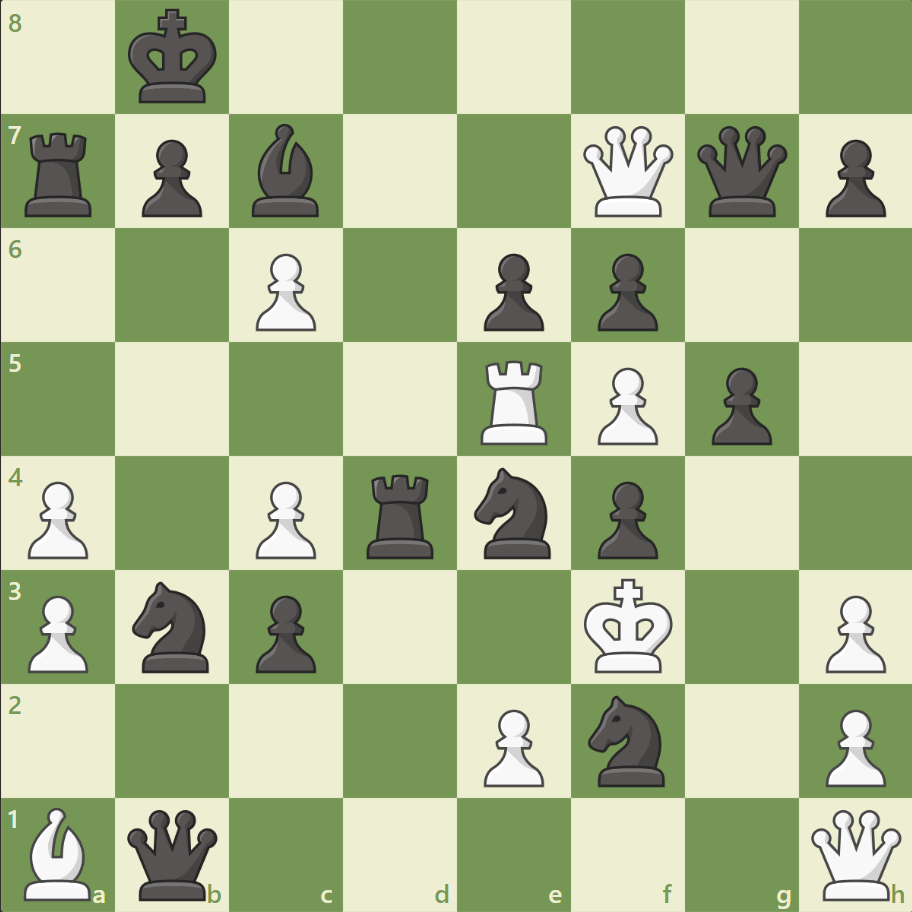B: (17, 801, 101, 904)
K: (579, 571, 679, 679)
P: (247, 246, 322, 337), (20, 473, 95, 564), (247, 473, 322, 564), (20, 586, 95, 677), (474, 700, 549, 791), (588, 359, 662, 450), (815, 586, 889, 677), (815, 700, 889, 791)
Q: (578, 122, 677, 222), (805, 804, 904, 903)
R: (473, 352, 556, 449)
b: (244, 120, 328, 222)
k: (124, 4, 224, 112)
n: (124, 575, 222, 677), (465, 461, 562, 564), (579, 688, 676, 791)
p: (133, 132, 208, 223), (474, 246, 549, 337), (701, 359, 776, 450), (247, 586, 322, 677), (815, 132, 889, 223), (588, 246, 662, 337), (588, 473, 662, 564)
q: (691, 122, 790, 222), (124, 804, 223, 903)
r: (19, 125, 102, 222), (360, 466, 442, 563)
